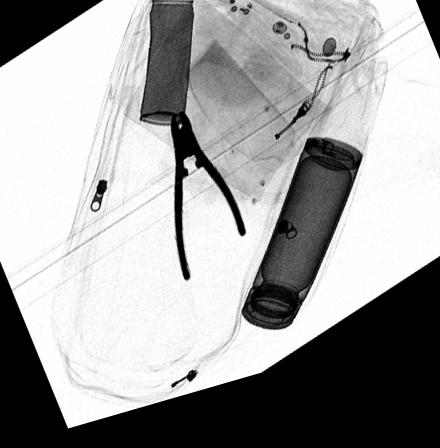Pliers: (168, 119, 245, 291)
